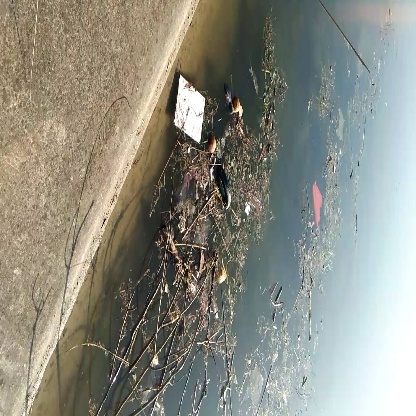plastic-garbage: (171, 70, 209, 146)
